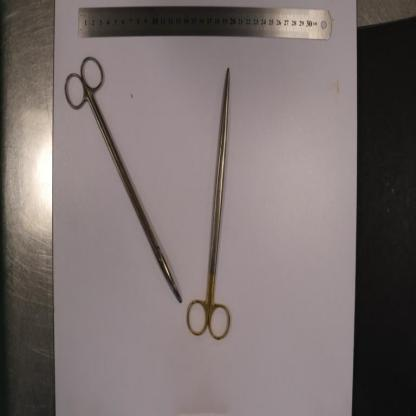7 Metzenbaum Scissors: (186, 67, 231, 340)
9 Metzenbaum Scissors: (61, 54, 182, 303)
